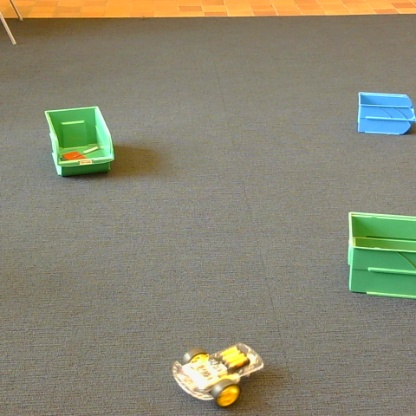robot: (172, 342, 263, 406)
